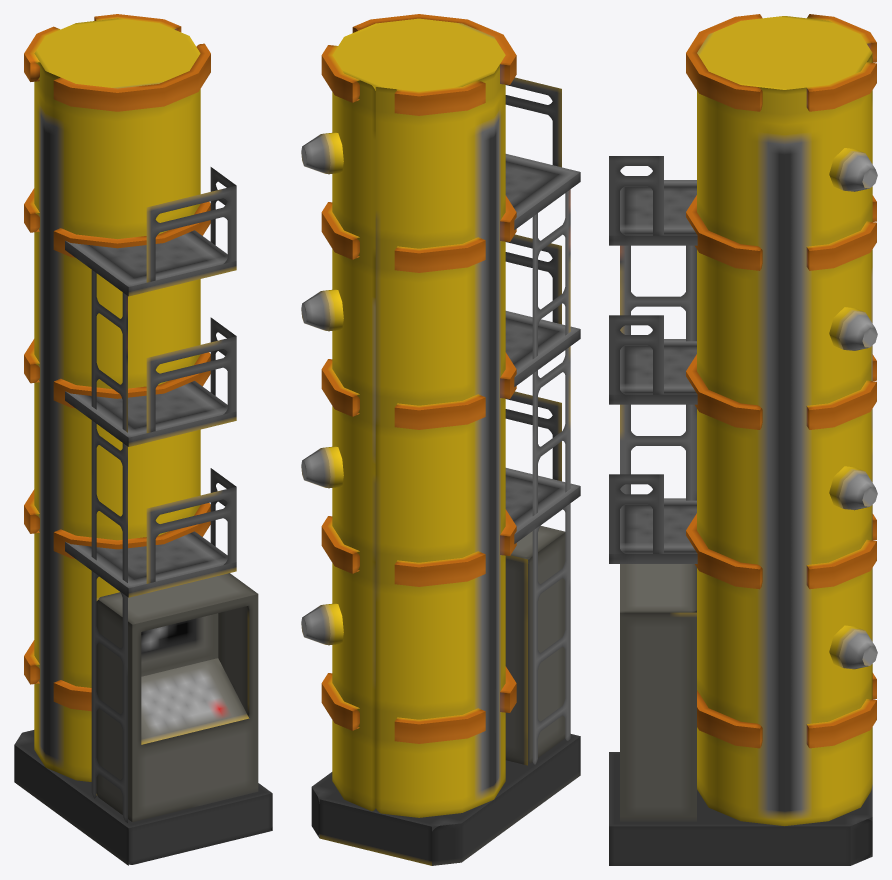
The model's file is crane_main.obj.
The picture shows the model from 3 angles, left to right: view 1: azimuth 30°, elevation 25°; view 2: azimuth 150°, elevation 25°; view 3: azimuth 270°, elevation 25°; orthographic projection. The views are drawn at different scales.
Visible parts, largest first — view 1: Main; view 2: Main; view 3: Main.
Boxes of the visible parts, x1,y1,x2,y2 form: Main: [14, 14, 272, 865]; Main: [301, 14, 580, 865]; Main: [609, 14, 877, 865].
Size of the model in its own units: 1.06 by 4.88 by 1.53.
